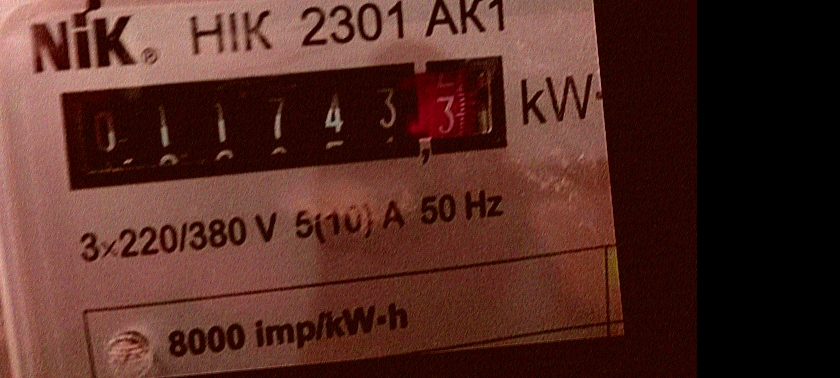0: (84, 106, 118, 156)
1: (204, 97, 229, 147), (149, 103, 171, 152)
3: (367, 83, 400, 133), (428, 92, 456, 138)
4: (314, 87, 346, 138)
7: (260, 94, 288, 144)
screen: (40, 42, 515, 203)
